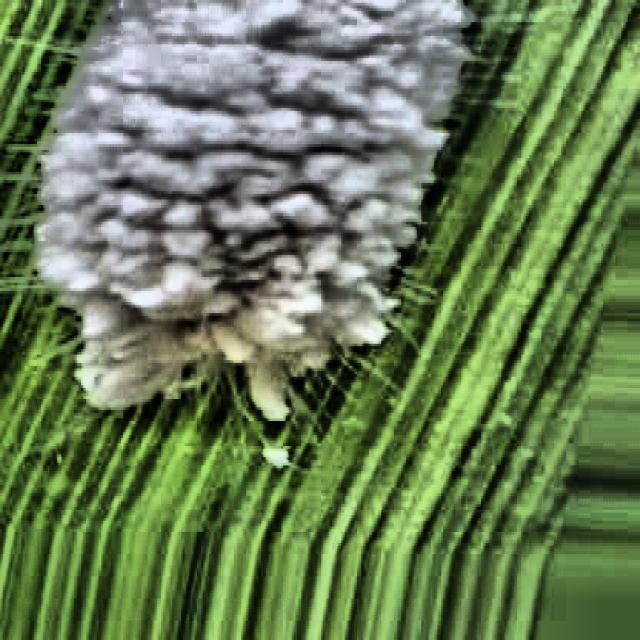Mealy-bug: (0, 3, 448, 492)
